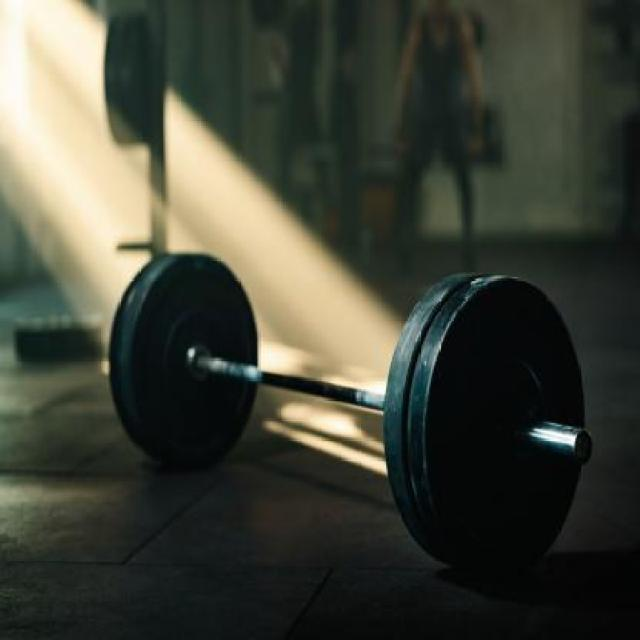barbell: (379, 254, 606, 596)
